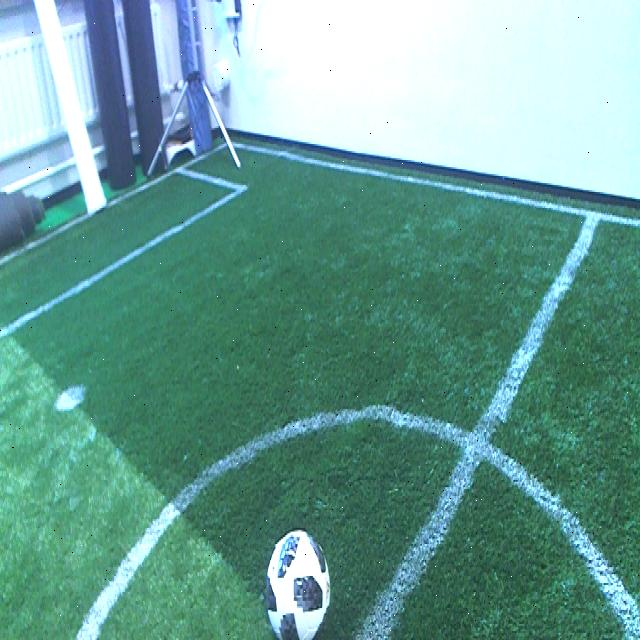ball: (261, 526, 336, 636)
goalpost: (37, 5, 110, 224)
